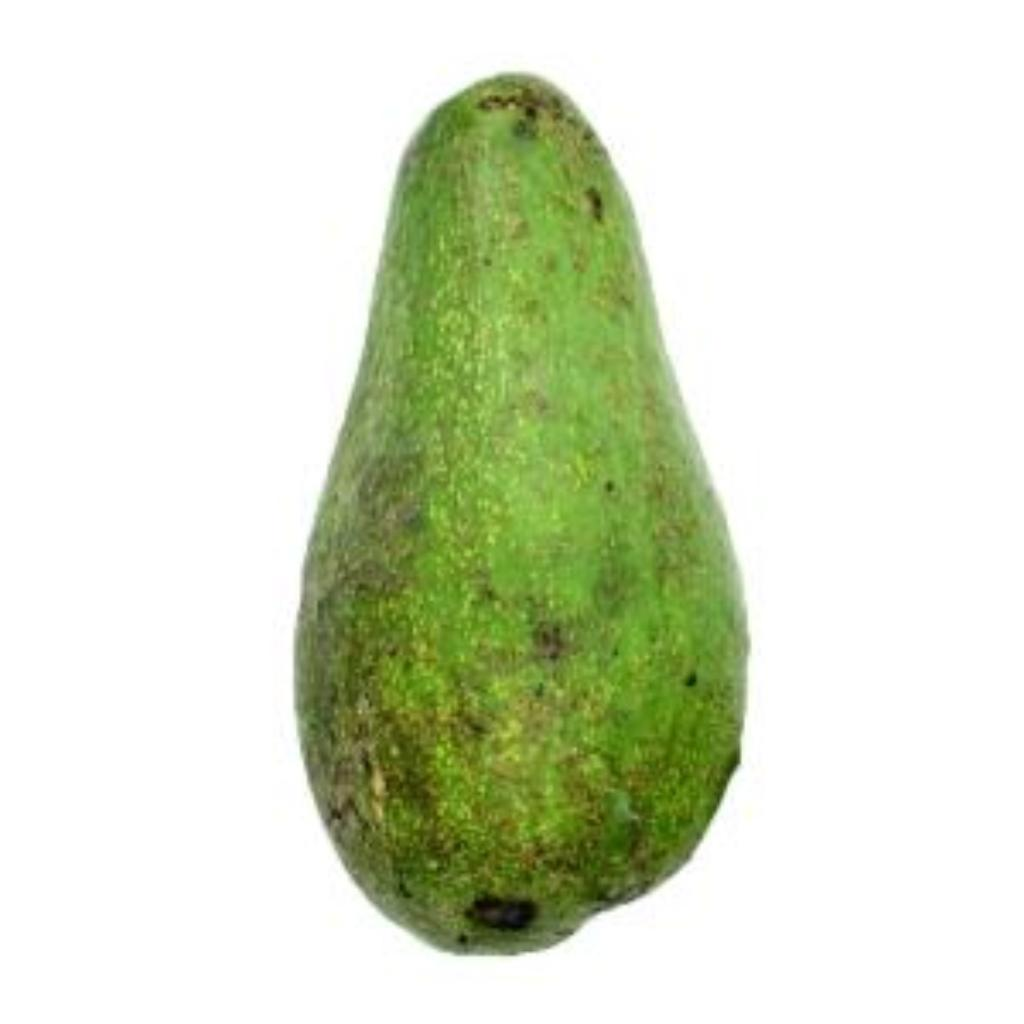cercospora_spot: (276, 48, 768, 970)
